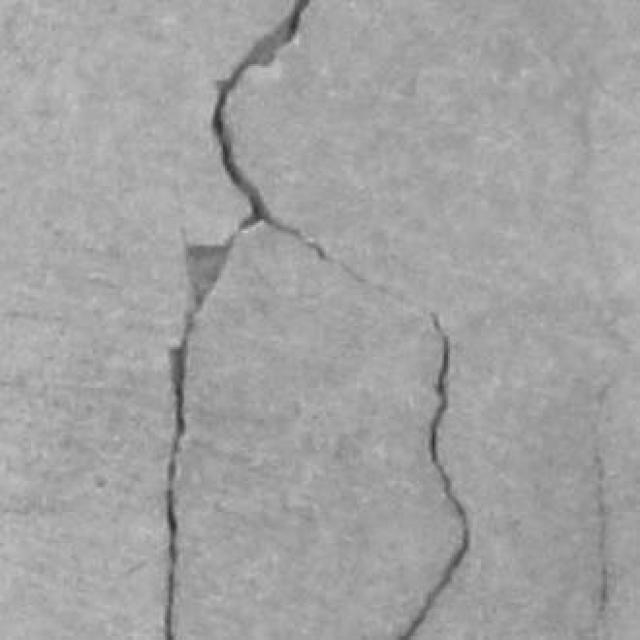crack: (212, 0, 420, 314), (212, 0, 325, 259), (163, 233, 232, 639), (398, 315, 471, 639), (594, 427, 610, 638)
